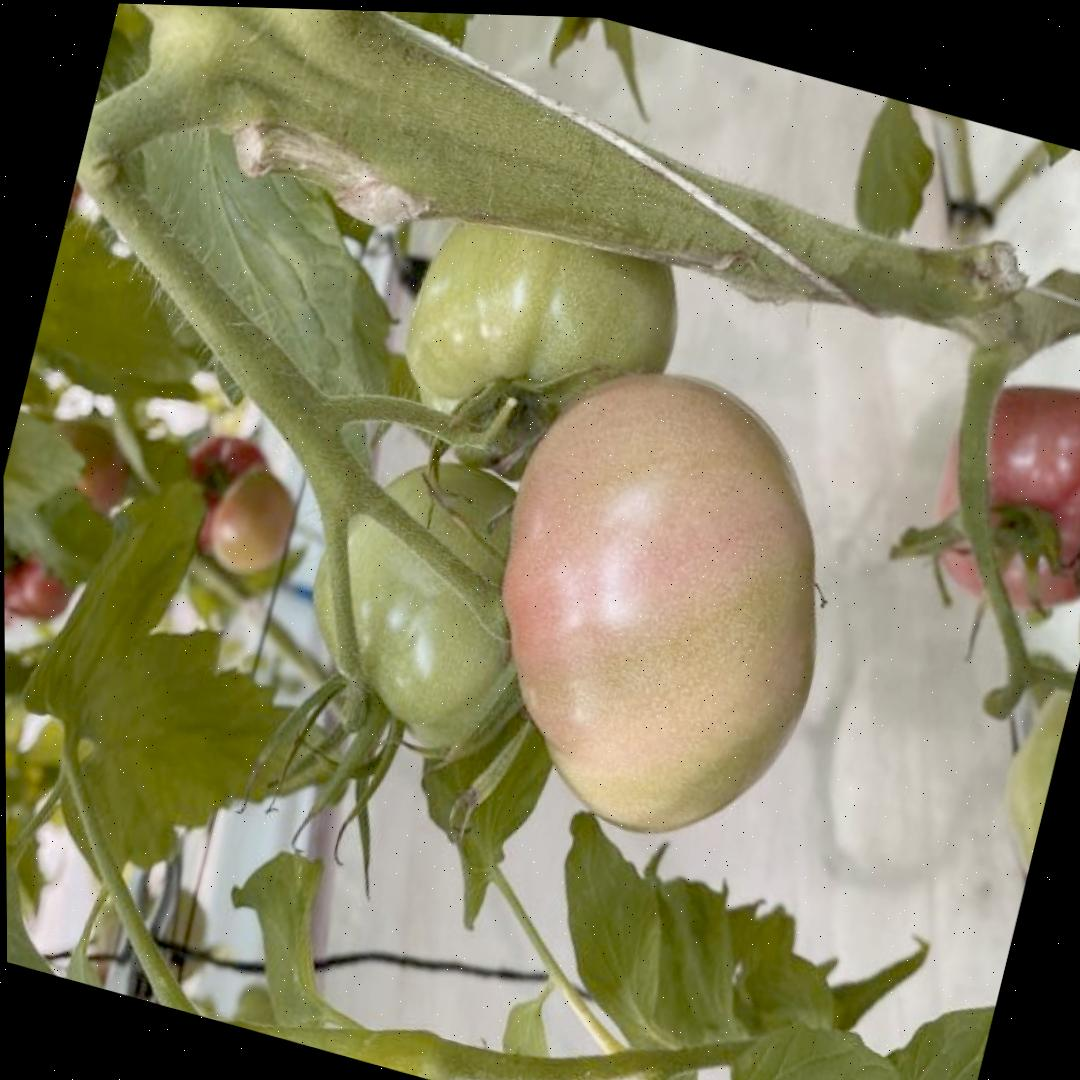mentah: (372, 115, 717, 521), (281, 427, 599, 780)
setengah_matang: (440, 326, 880, 877)
